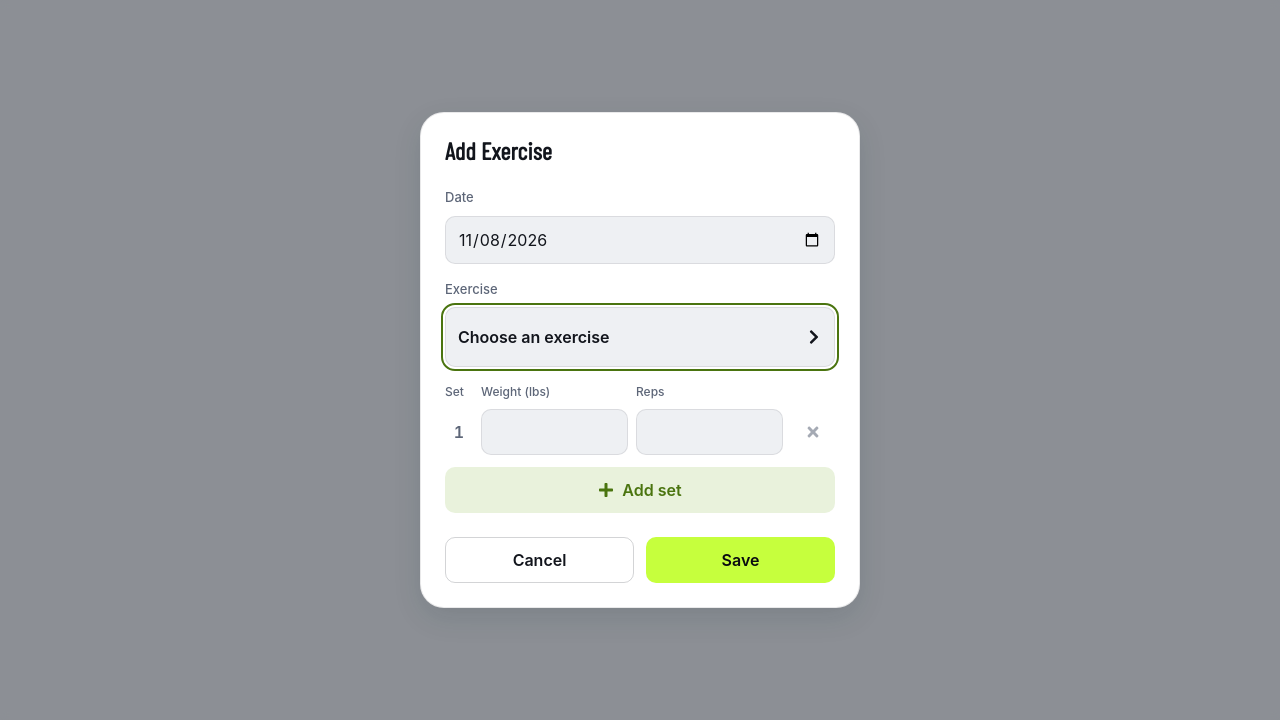
Scenario: last time › shows the previous session once the exercise is picked
Expected: the text "last time" is not shown
Click the button "Choose an exercise". click: point(534, 337)
box: 445,307 -> 835,367
(page scrolled)
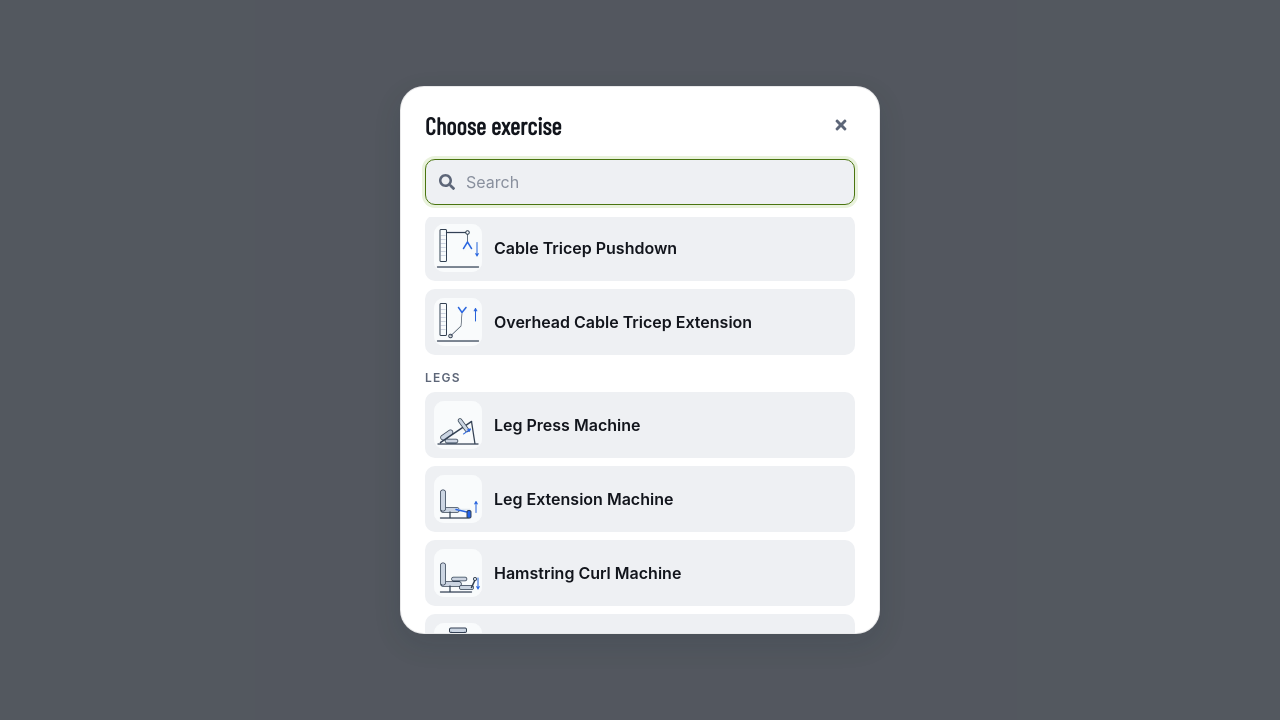
Click the button "Leg Press Machine". click: point(640, 425)
box: 425,392 -> 855,458
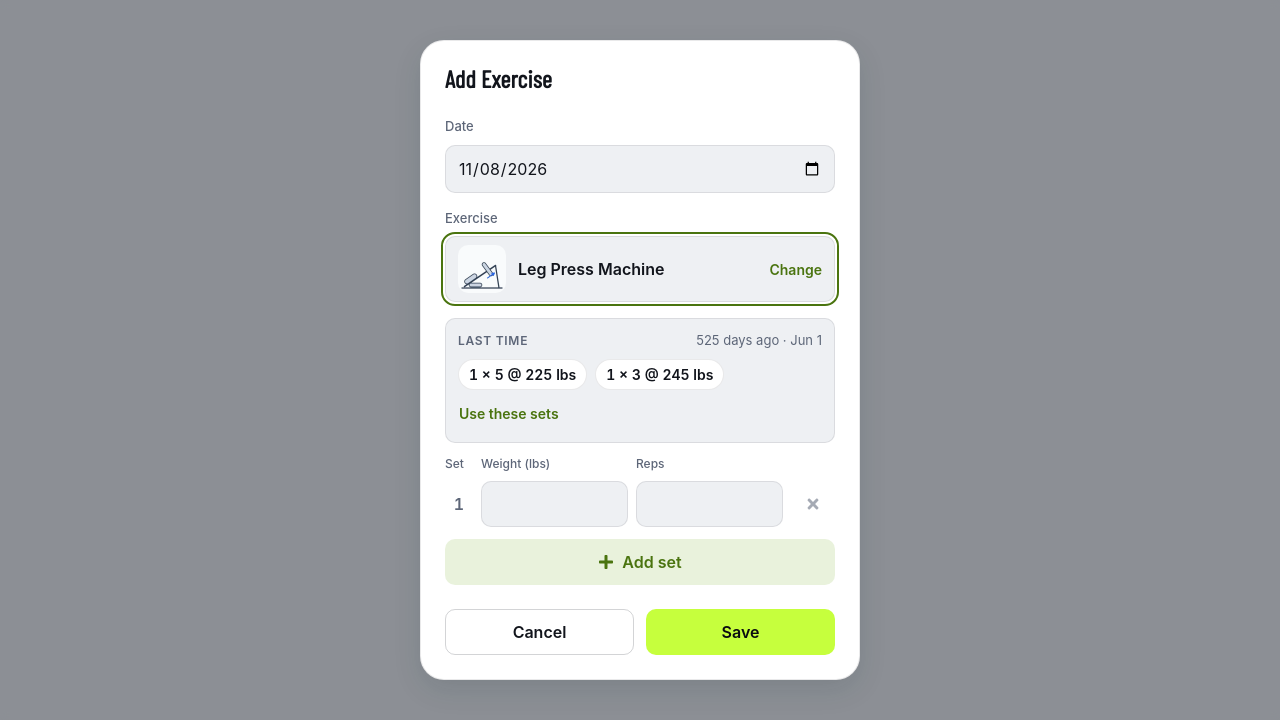
Expected: the text "Last time" is shown, 458,332 -> 528,350
Expected: the text "525 days ago · Jun 1" is shown, 696,331 -> 822,350
Expected: the list item "1 × 5 @ 225 lbs" is shown, 458,358 -> 587,390
